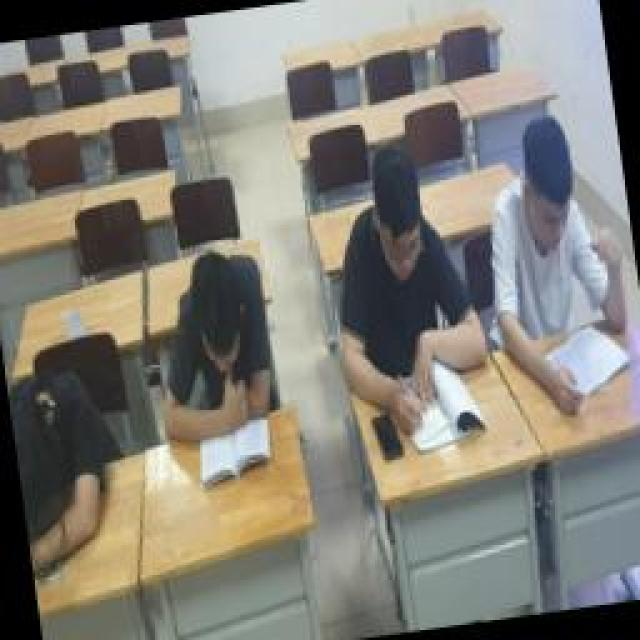sleep: (5, 365, 130, 565)
study: (310, 128, 502, 440), (125, 242, 297, 462)
